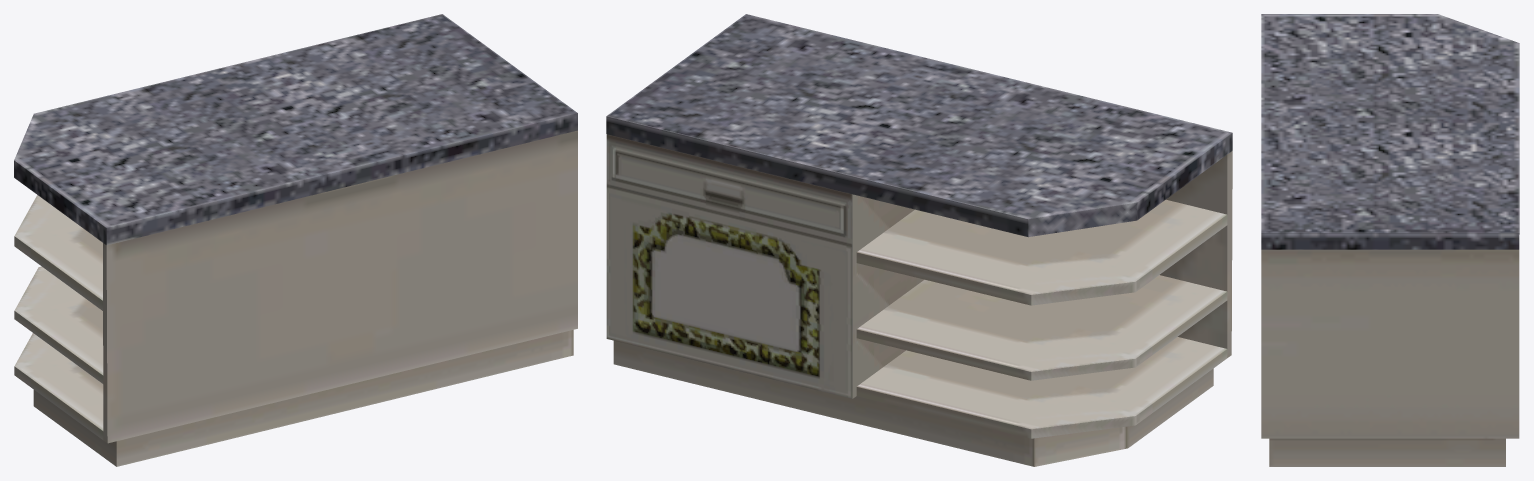
Rendered from furni_0200090_01.FBX.
3 renders of one model, left to right at view 1: azimuth 30°, elevation 25°; view 2: azimuth 150°, elevation 25°; view 3: azimuth 270°, elevation 25°, orthographic. The views are drawn at different scales.
Parts seen in each view (by area): view 1: furni_0200090_01; view 2: furni_0200090_01; view 3: furni_0200090_01.
Boxes of the visible parts, x1,y1,x2,y2 form: furni_0200090_01: [14, 14, 577, 466]; furni_0200090_01: [606, 14, 1232, 466]; furni_0200090_01: [1261, 14, 1519, 466].
Bounding box in the file's own units: 161 × 80 × 80.
1 material, 1 textured.
